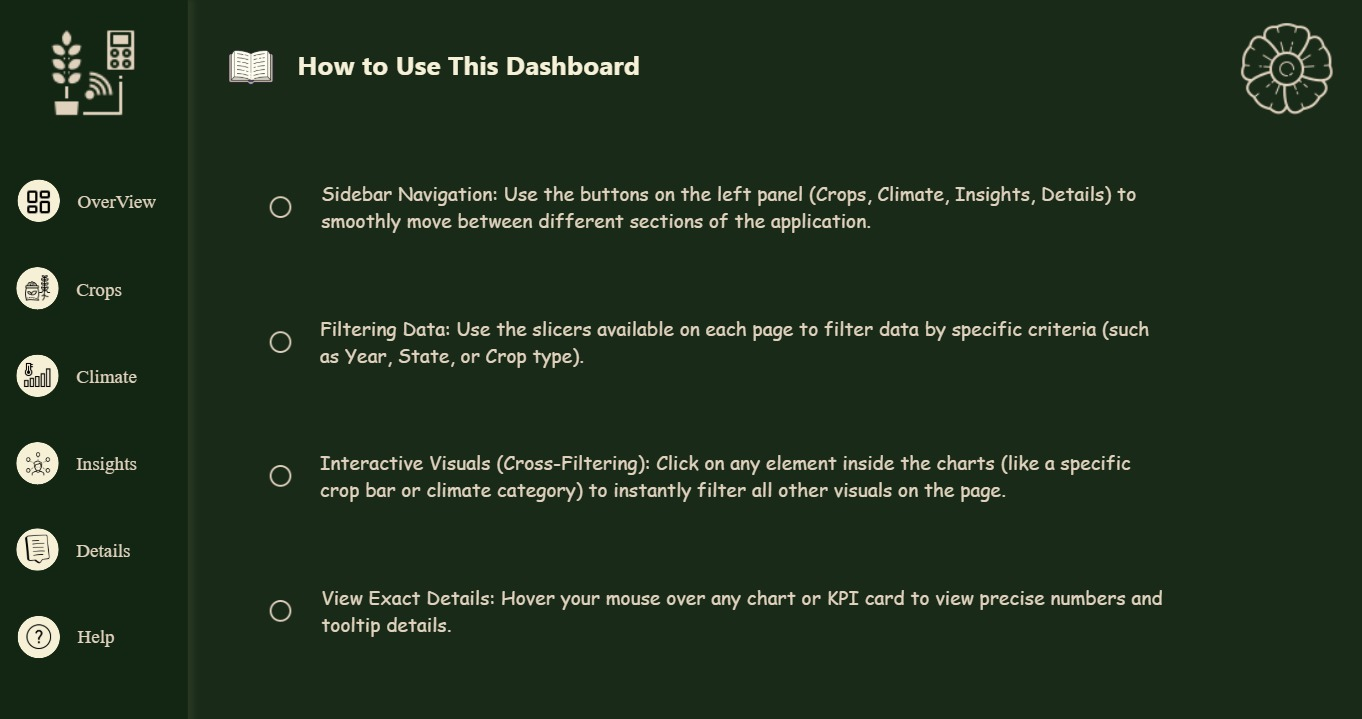

What the dashboard file says about the page in this screenshot:
{"tool":"powerbi","page":{"name":"Help","canvas":[2275,1219],"ordinal":5},"visuals":[{"type":"shape","box":[0,0,312.5,1218.8],"z":0,"group":"g12"},{"type":"actionButton","box":[487.5,70.8,587.5,81.2],"z":0},{"type":"shape","box":[28.2,304.2,70.8,70.8],"z":0,"group":"g1"},{"type":"actionButton","box":[124.7,318.8,164,45],"z":0,"group":"g6"},{"type":"shape","box":[27.1,450.4,70.8,70.8],"z":0,"group":"g2"},{"type":"actionButton","box":[123.6,464.4,164,45],"z":0,"group":"g8"},{"type":"shape","box":[27.1,596.7,70.8,70.8],"z":0,"group":"g3"},{"type":"actionButton","box":[123.6,610.4,164,45],"z":0,"group":"g9"},{"type":"shape","box":[27.1,740.8,70.8,70.8],"z":0,"group":"g4"},{"type":"actionButton","box":[123.6,754.2,164,45],"z":0,"group":"g10"},{"type":"shape","box":[27.1,885,70.8,70.8],"z":0,"group":"g5"},{"type":"actionButton","box":[123.6,899.3,164,45],"z":0,"group":"g7"},{"type":"shape","box":[28.5,1031.2,70.8,70.8],"z":0,"group":"g11"},{"type":"image","box":[62.5,45.8,187.5,160.4],"z":1000,"group":"g12"},{"type":"image","box":[364.6,70.8,106.2,93.8],"z":1000},{"type":"group","id":"g1","title":"Dashboard B image","box":[28.2,304.2,70.8,70.8],"z":1000,"group":"g6"},{"type":"image","box":[35.6,318.8,54.2,45.8],"z":1000,"group":"g1"},{"type":"group","id":"g2","title":"Crop B image","box":[27.1,450.4,70.8,70.8],"z":1000,"group":"g8"},{"type":"image","box":[34.5,462.2,54,45],"z":1000,"group":"g2"},{"type":"group","id":"g3","title":"Climate B image","box":[27.1,596.7,70.8,70.8],"z":1000,"group":"g9"},{"type":"image","box":[34.5,607.8,54,45.8],"z":1000,"group":"g3"},{"type":"group","id":"g4","title":"Insights B image","box":[27.1,740.8,70.8,70.8],"z":1000,"group":"g10"},{"type":"image","box":[34.5,753.3,56,48],"z":1000,"group":"g4"},{"type":"group","id":"g5","title":"Details B image","box":[27.1,885,70.8,70.8],"z":1000,"group":"g7"},{"type":"image","box":[27.1,891.2,70.8,56.2],"z":1000,"group":"g5"},{"type":"image","box":[35.9,1043.7,54,45],"z":1000,"group":"g11"},{"type":"group","id":"g6","title":"Dashboard","box":[28.2,304.2,260.5,70.8],"z":2000,"group":"g12"},{"type":"image","box":[447.9,325,39.6,50],"z":2000},{"type":"actionButton","box":[124.3,1043.7,164,45],"z":2000,"group":"g11"},{"type":"shape","box":[534.9,287.5,1420.8,125],"z":3000},{"type":"group","id":"g7","title":"Details","box":[27.1,885,262.5,70.8],"z":3000,"group":"g12"},{"type":"group","id":"g8","title":"Crops","box":[27.1,450.4,262.5,70.8],"z":4000,"group":"g12"},{"type":"shape","box":[534.9,960.4,1420.8,125],"z":4000},{"type":"shape","box":[533.9,511.8,1422.9,125],"z":5000},{"type":"group","id":"g9","title":"Climate","box":[27.1,596.7,262.5,68.8],"z":5000,"group":"g12"},{"type":"shape","box":[533.9,736.1,1422.9,125],"z":6000},{"type":"group","id":"g10","title":"Insights","box":[27.1,740.8,262.5,68.8],"z":6000,"group":"g12"},{"type":"image","box":[447.9,997.9,39.6,50],"z":7000},{"type":"group","id":"g11","title":"Help B image","box":[28.5,1031.2,259.8,70.8],"z":7000,"group":"g12"},{"type":"image","box":[447.9,773.6,39.6,50],"z":8000},{"type":"image","box":[447.9,549.3,39.6,50],"z":9000},{"type":"group","id":"g12","title":"Side bar","box":[0,0,312.5,1218.8],"z":10000},{"type":"image","box":[2027.1,16.7,235.4,206.2],"z":12001}]}

Visuals, with their boxes in screenshot pixels (x1, y1, x2, y2), scaled from the page's 2275x1219 canvas onto the 1362x719 screenshot:
shape: (0, 0, 187, 718)
actionButton: (292, 42, 644, 90)
shape: (17, 179, 59, 221)
actionButton: (75, 188, 173, 215)
shape: (16, 266, 59, 307)
actionButton: (74, 274, 172, 300)
shape: (16, 352, 59, 394)
actionButton: (74, 360, 172, 387)
shape: (16, 437, 59, 479)
actionButton: (74, 445, 172, 471)
shape: (16, 522, 59, 564)
actionButton: (74, 530, 172, 557)
shape: (17, 608, 59, 650)
image: (37, 27, 150, 122)
image: (218, 42, 282, 97)
"Dashboard B image" group: (17, 179, 59, 221)
image: (21, 188, 54, 215)
"Crop B image" group: (16, 266, 59, 307)
image: (21, 273, 53, 299)
"Climate B image" group: (16, 352, 59, 394)
image: (21, 358, 53, 386)
"Insights B image" group: (16, 437, 59, 479)
image: (21, 444, 54, 473)
"Details B image" group: (16, 522, 59, 564)
image: (16, 526, 59, 559)
image: (21, 616, 54, 642)
"Dashboard" group: (17, 179, 173, 221)
image: (268, 192, 292, 221)
actionButton: (74, 616, 173, 642)
shape: (320, 170, 1171, 243)
"Details" group: (16, 522, 173, 564)
"Crops" group: (16, 266, 173, 307)
shape: (320, 566, 1171, 640)
shape: (320, 302, 1171, 376)
"Climate" group: (16, 352, 173, 393)
shape: (320, 434, 1171, 508)
"Insights" group: (16, 437, 173, 478)
image: (268, 589, 292, 618)
"Help B image" group: (17, 608, 173, 650)
image: (268, 456, 292, 486)
image: (268, 324, 292, 353)
"Side bar" group: (0, 0, 187, 718)
image: (1214, 10, 1355, 131)
